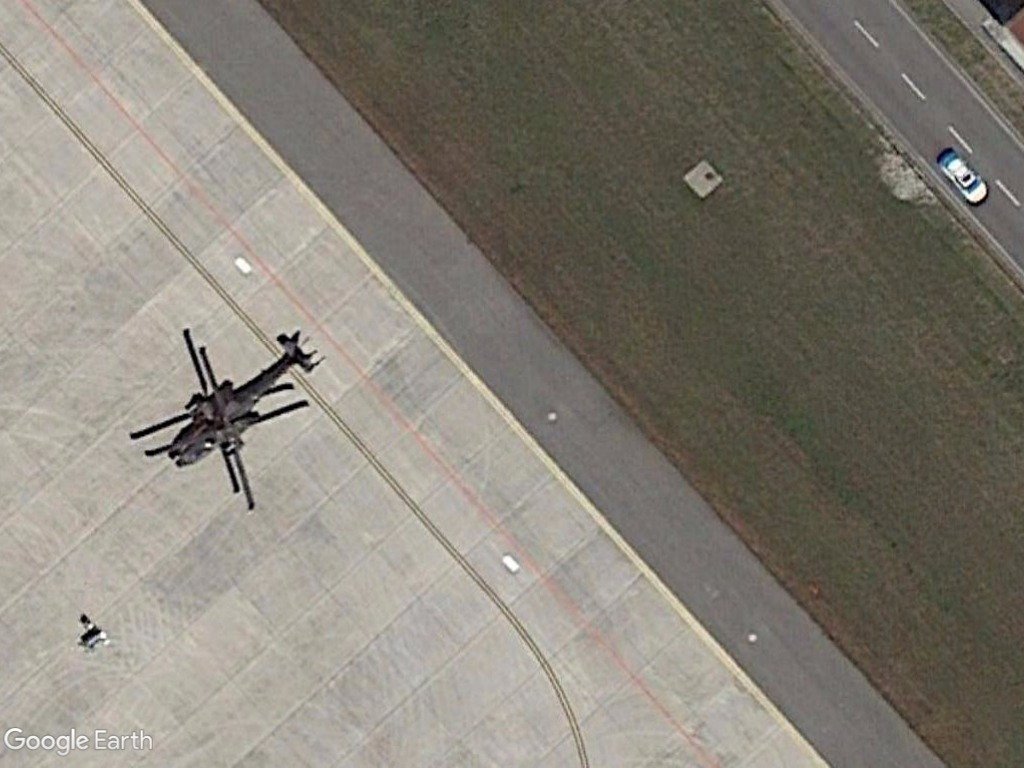helicopter: (136, 321, 320, 522)
